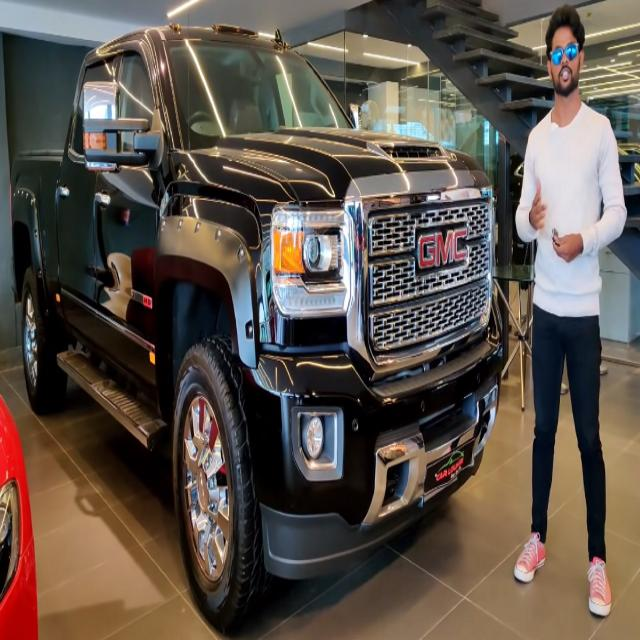car: (11, 24, 500, 630)
